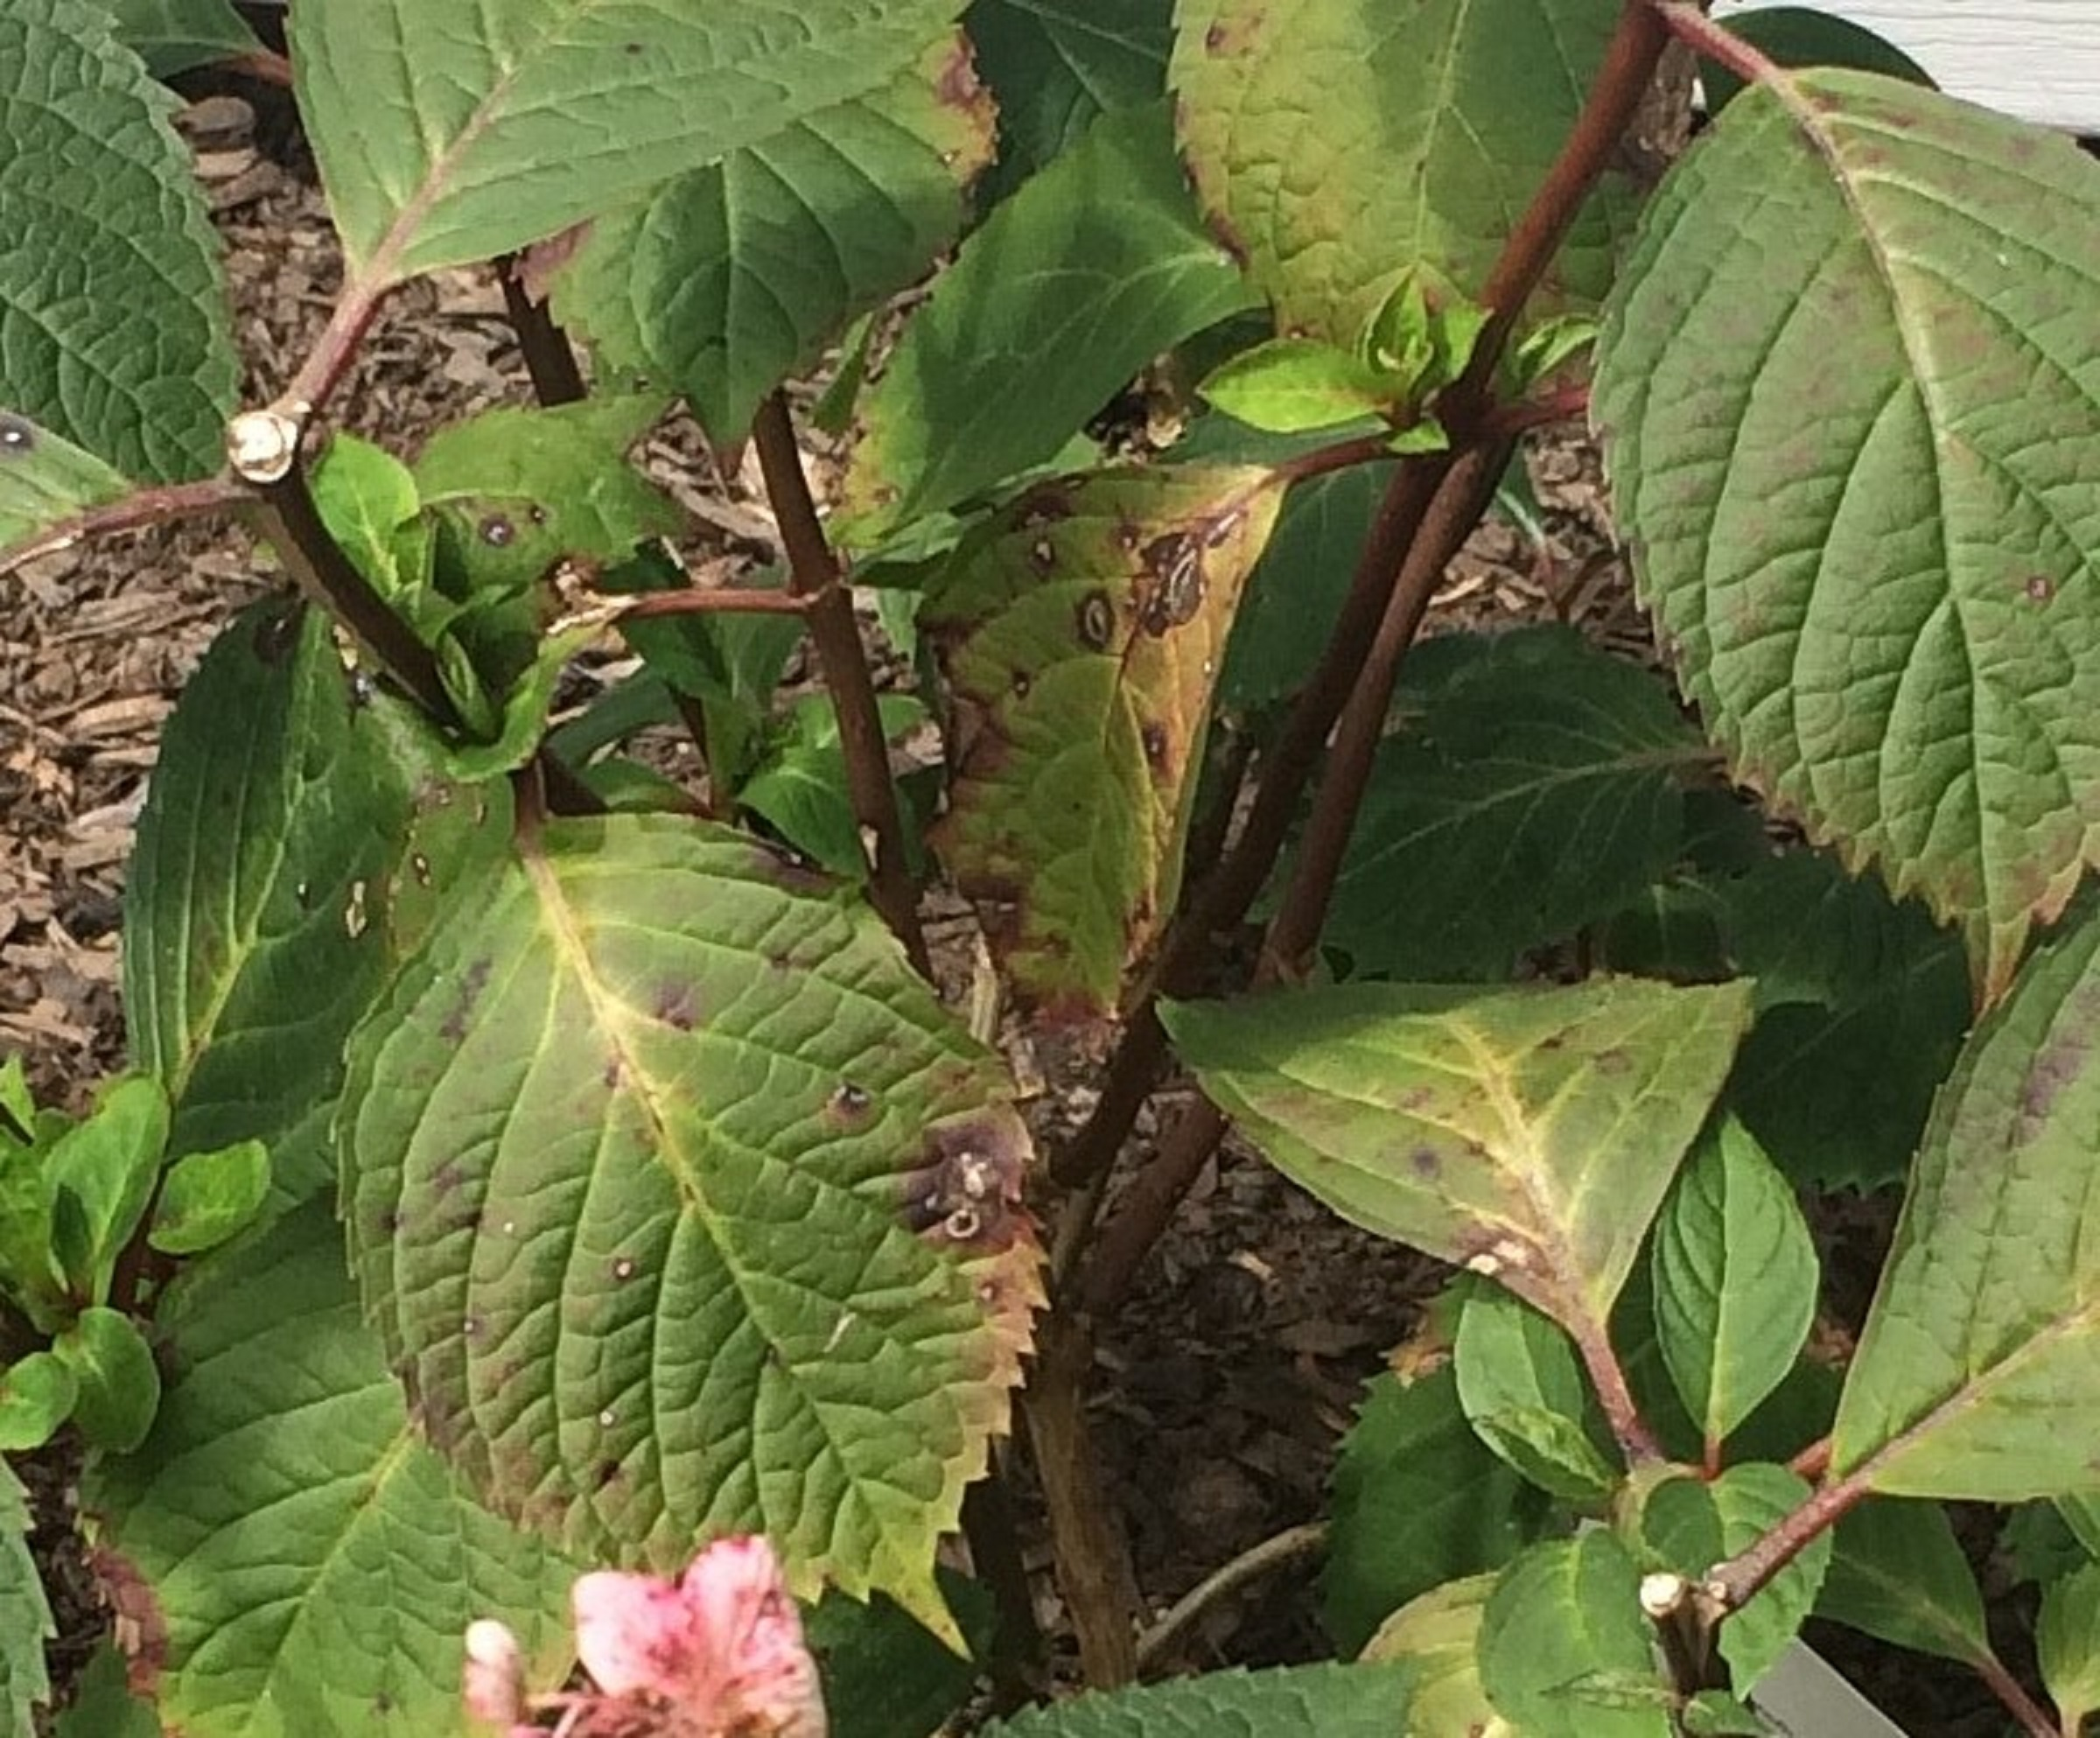healthy: (272, 815, 1135, 1652)
